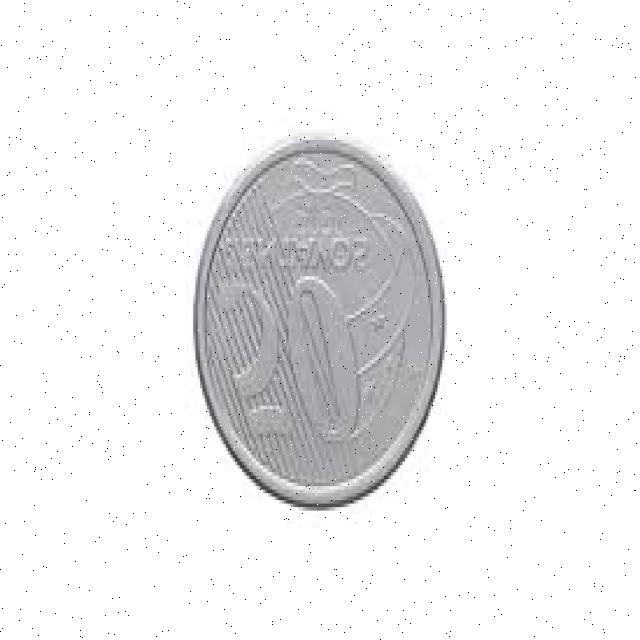50 cent: (190, 125, 447, 517)
